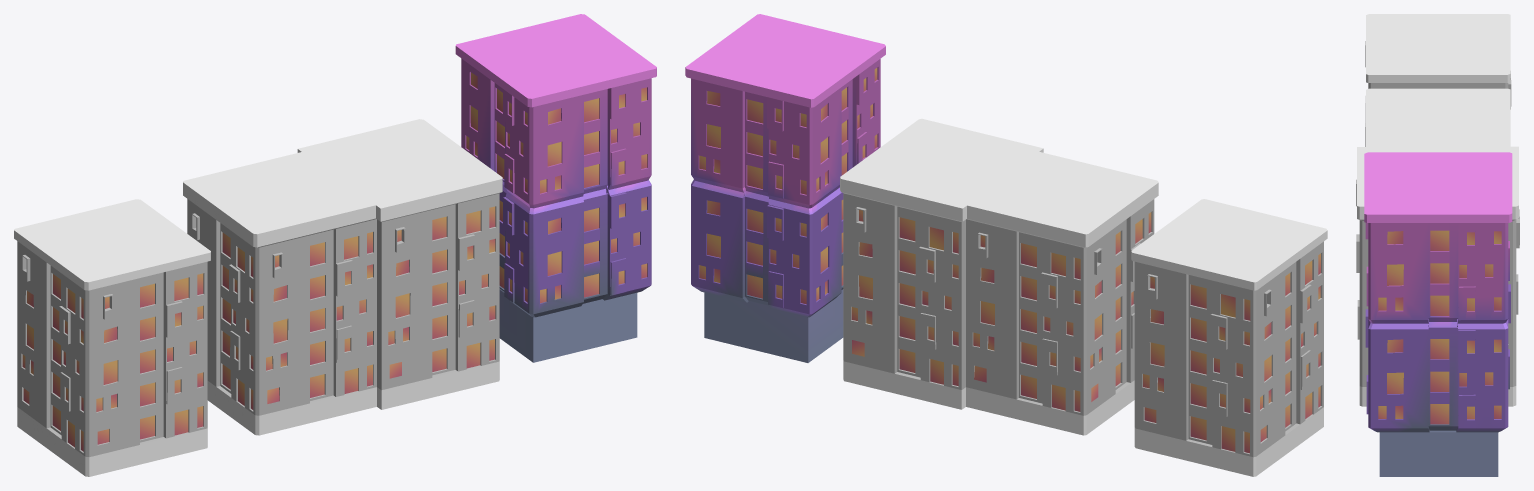
File: Building_01.fbx
The picture shows the model from 3 angles, left to right: view 1: azimuth 30°, elevation 25°; view 2: azimuth 150°, elevation 25°; view 3: azimuth 270°, elevation 25°; orthographic projection.
Parts seen in each view (by area): view 1: Building_02a, Building_03a, Building_01a; view 2: Building_02a, Building_03a, Building_01a; view 3: Building_03a, Building_02a, Building_01a.
Part boxes in pixels (<box>): Building_02a: <box>183,119,502,435</box>; Building_03a: <box>455,14,656,362</box>; Building_01a: <box>14,199,210,476</box>; Building_02a: <box>840,118,1158,435</box>; Building_03a: <box>685,14,885,362</box>; Building_01a: <box>1131,199,1327,476</box>; Building_03a: <box>1364,152,1512,476</box>; Building_02a: <box>1356,88,1519,406</box>; Building_01a: <box>1365,14,1511,122</box>.
Bounding box in the file's own units: 14575 × 6621 × 3658.
